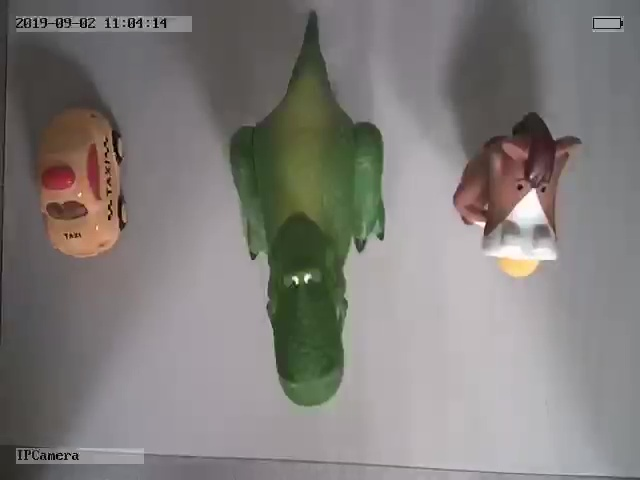car: (37, 102, 129, 259)
horse: (452, 113, 580, 280)
rex: (229, 12, 387, 410)
